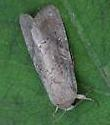army worm adult: (18, 4, 101, 119)
